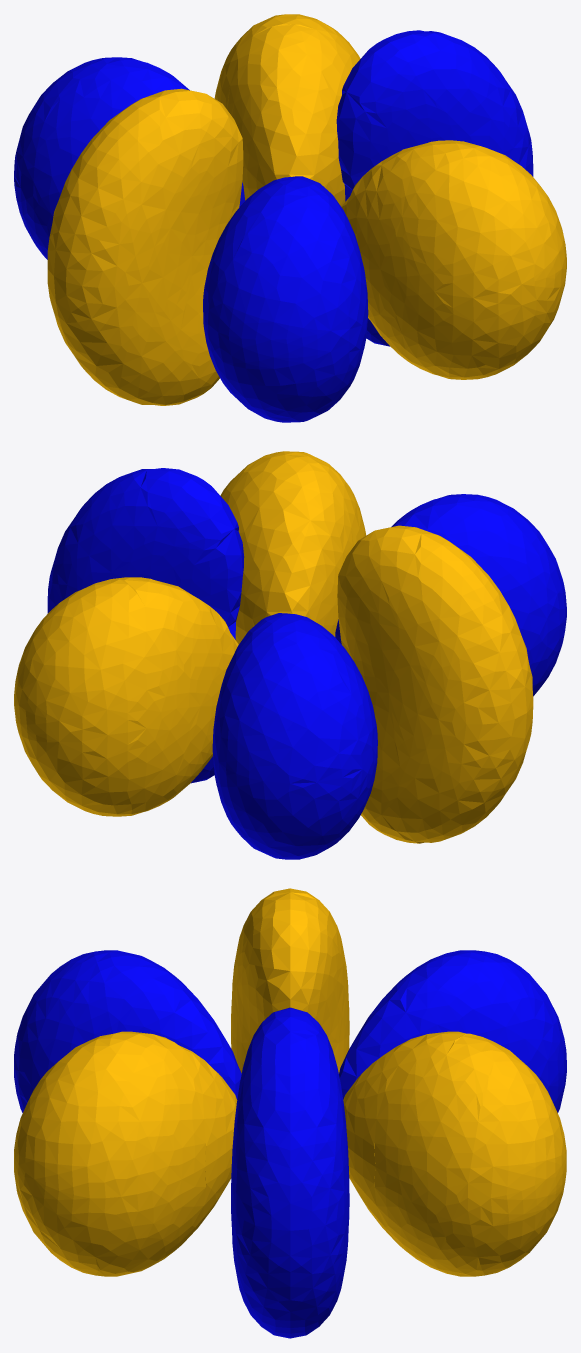
3 views of the same model, one above another, from view 1: azimuth 30°, elevation 25°; view 2: azimuth 150°, elevation 25°; view 3: azimuth 270°, elevation 25° (orthographic).
Bounding box in the file's own units: 24.14 × 15.07 × 24.04.
